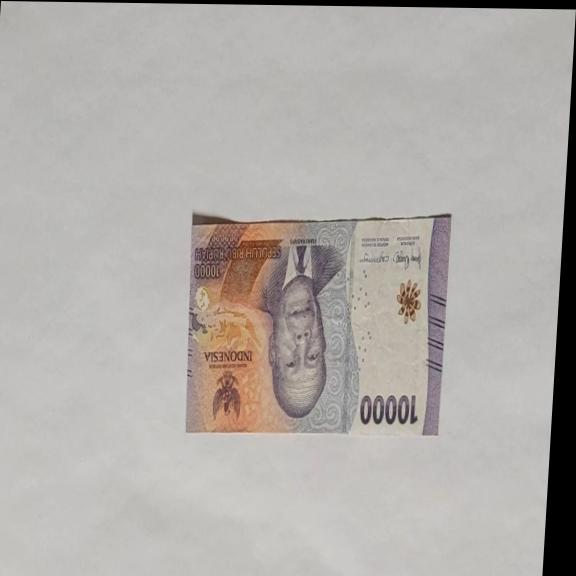Kertas: (178, 210, 451, 439), (358, 391, 420, 428)
